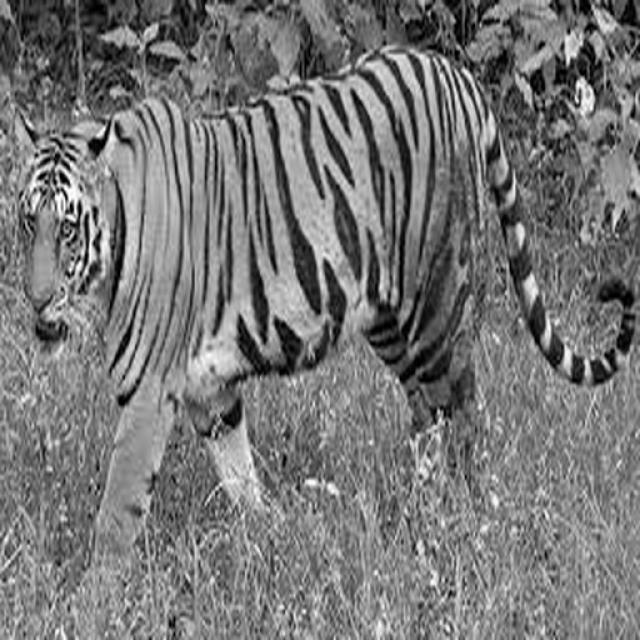Tiger: (6, 40, 639, 602)
